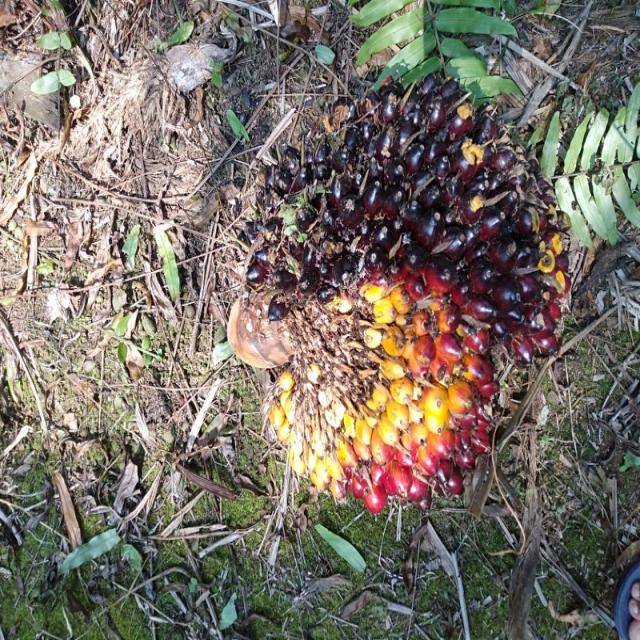fraksi 1: (234, 76, 570, 504)
